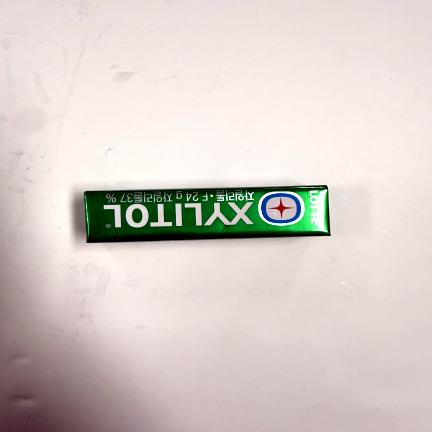gum_green: (85, 186, 332, 245)
